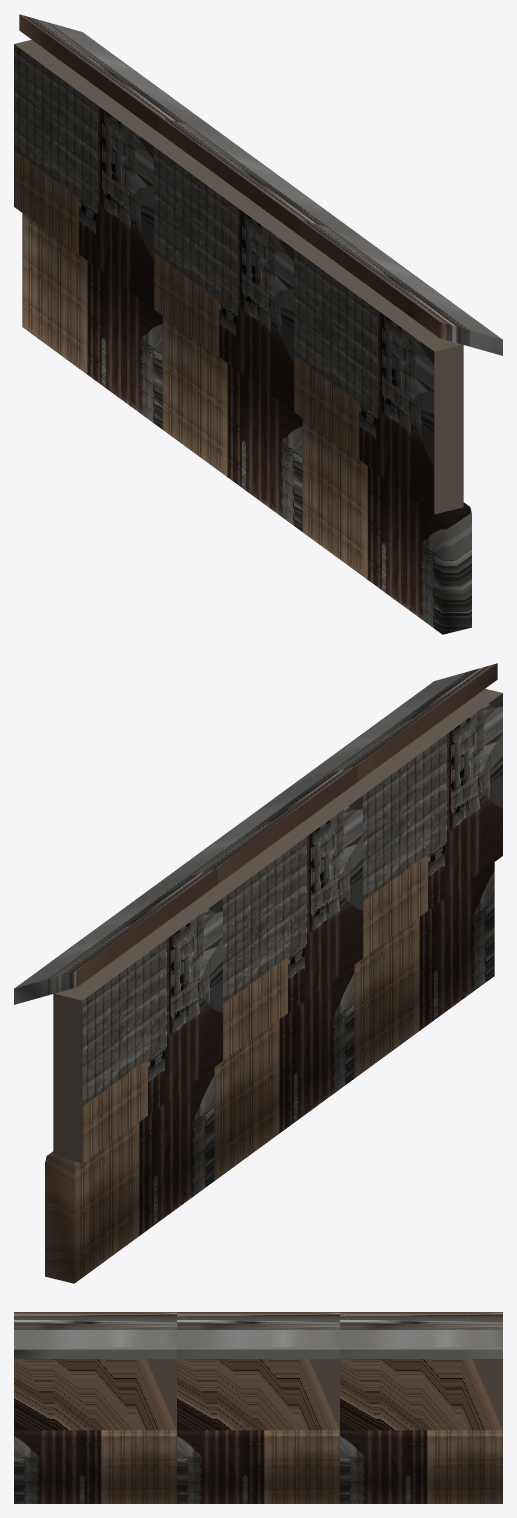
Rendered from zenkei_miniwall_straight_CollisionSetup.fbx.
The picture shows the model from 3 angles, top to bottom: view 1: azimuth 30°, elevation 25°; view 2: azimuth 150°, elevation 25°; view 3: azimuth 270°, elevation 25°; orthographic projection. The views are drawn at different scales.
Parts seen in each view (by area): view 1: collisionConvex.645; view 2: collisionConvex.645; view 3: collisionConvex.645.
Boxes of the visible parts, x1,y1,x2,y2 form: collisionConvex.645: (14, 14, 502, 634); collisionConvex.645: (14, 663, 502, 1283); collisionConvex.645: (14, 1312, 502, 1503).
Bounding box in the file's own units: 0.5016 × 5.31 × 2.19.
